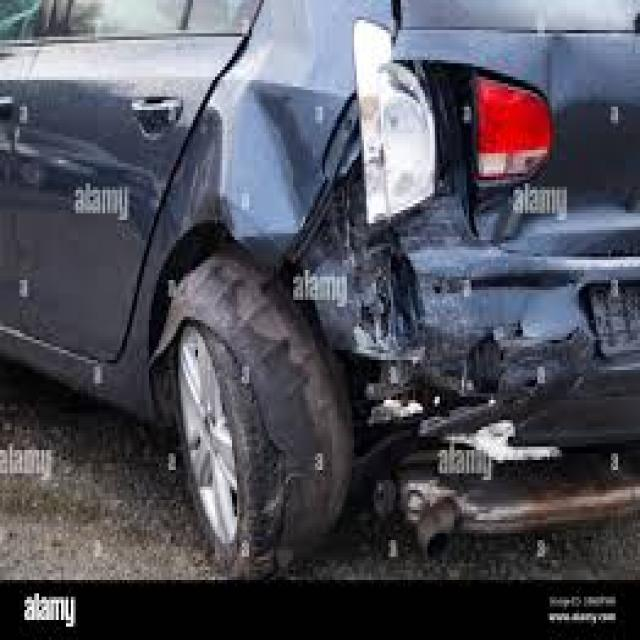damaged-tail-light: (363, 47, 539, 189)
